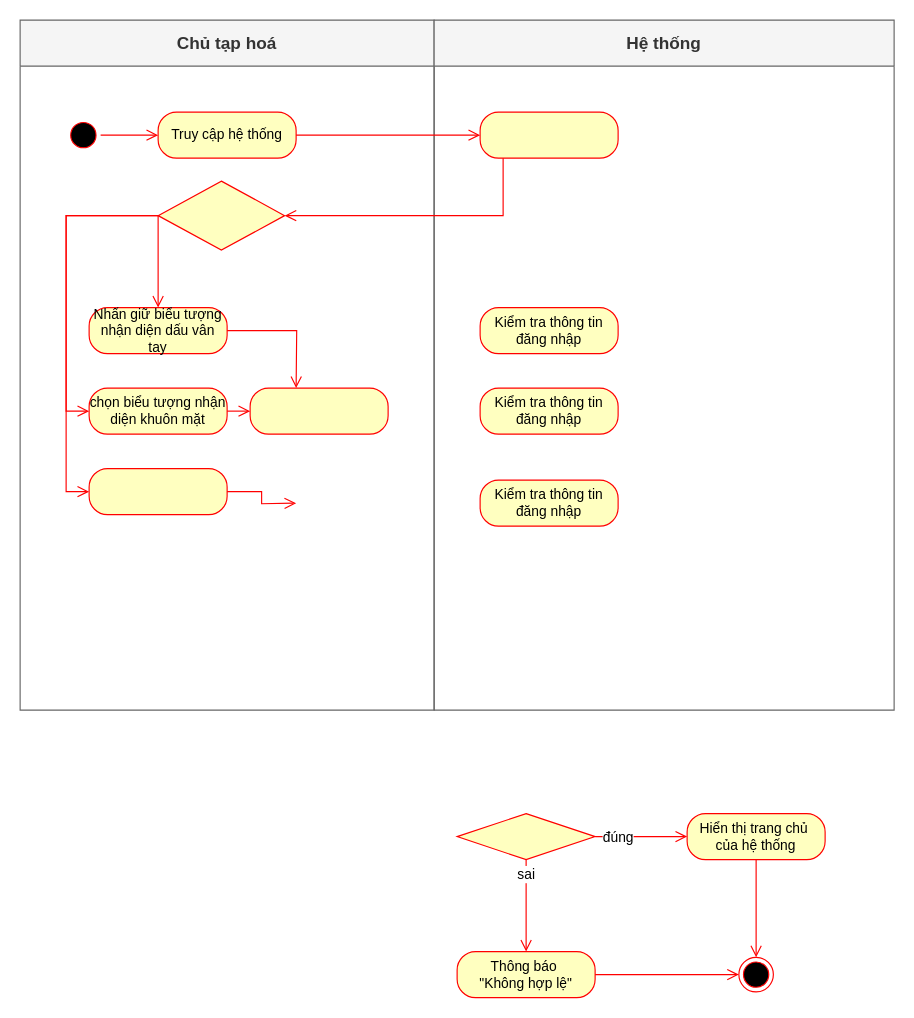
The diagram is 914 pixels wide and 1018 high, and some of its shapes have lost their labels. Here are the shapes that lost their labels. From the top down, the centre of each, then its label:
[548,134]: Hiển thị màn hình đăng nhập hệ thống
[221,215]: Chọn cách đăng nhập?
[318,410]: quét khuôn mặt
[157,491]: nhập mật khẩu
[525,836]: Thông tin hợp lệ?
